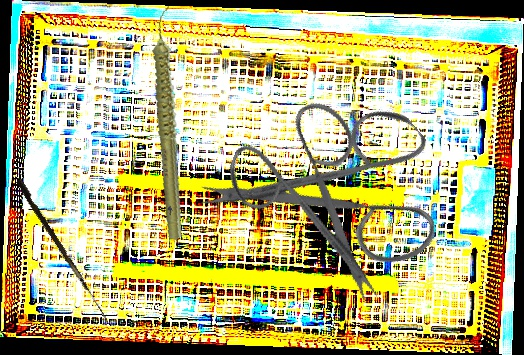Handpiece: (118, 4, 223, 243)
Hook Surgical: (13, 178, 114, 321)
Iris Scissors: (193, 54, 480, 340), (200, 79, 439, 309)
